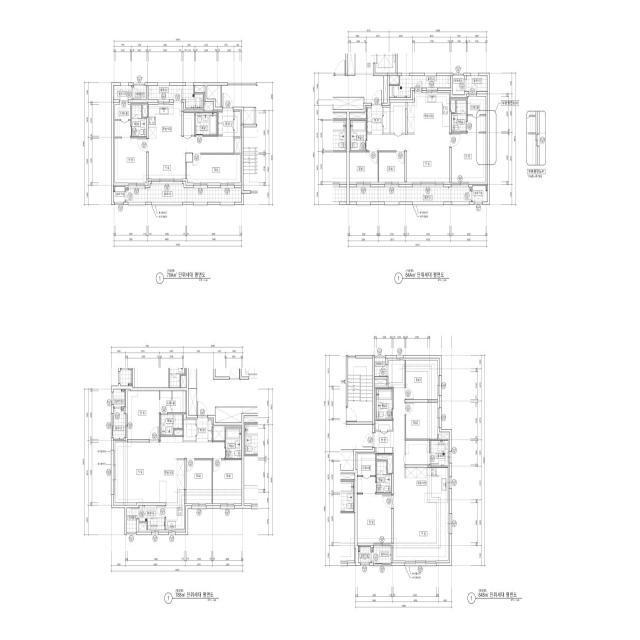space_balconi: (126, 184, 242, 202), (349, 187, 471, 202), (389, 76, 451, 97), (148, 86, 203, 108), (140, 506, 165, 530), (430, 441, 448, 466), (113, 408, 125, 439), (372, 546, 391, 563), (466, 76, 487, 91), (113, 86, 131, 100)
space_bedroom: (357, 494, 391, 543), (452, 133, 486, 182), (128, 391, 159, 439), (187, 155, 240, 183), (115, 138, 146, 183), (406, 360, 438, 400), (213, 460, 242, 503), (406, 403, 438, 439), (186, 460, 212, 503), (349, 152, 378, 182), (379, 152, 405, 182)
space_dressroom: (357, 454, 376, 493), (468, 96, 486, 132), (160, 391, 185, 413), (115, 102, 130, 137)
space_front: (218, 109, 240, 137), (367, 105, 383, 134), (374, 432, 393, 454), (197, 417, 212, 442)
space_kitchen: (407, 93, 450, 133), (405, 468, 448, 503), (166, 459, 184, 530), (148, 102, 182, 137)
space_living_room: (389, 360, 448, 561), (115, 437, 225, 503), (367, 134, 450, 182), (148, 137, 233, 179)
space_other: (406, 441, 429, 465), (391, 102, 405, 133), (207, 86, 220, 107), (377, 455, 392, 473), (127, 508, 138, 532), (184, 420, 196, 441), (184, 113, 194, 135), (375, 358, 387, 376), (453, 76, 464, 95), (189, 389, 197, 415), (133, 86, 146, 100), (243, 108, 254, 124), (213, 427, 225, 441), (376, 420, 392, 430), (384, 108, 390, 133), (349, 114, 366, 119), (384, 76, 387, 103), (389, 76, 399, 84), (235, 138, 240, 153), (204, 103, 213, 111), (375, 379, 387, 385), (195, 86, 205, 93), (139, 523, 146, 530), (451, 100, 455, 112), (143, 105, 147, 117), (174, 430, 183, 435), (439, 434, 448, 439)
space_outdoor_room: (472, 186, 487, 202), (113, 389, 125, 407), (358, 547, 371, 563), (113, 187, 125, 202)
space_staircase: (348, 358, 372, 422)
space_toilet: (350, 120, 366, 151), (195, 113, 217, 135), (160, 414, 183, 435), (376, 389, 392, 419), (226, 428, 241, 458), (452, 100, 466, 132), (377, 461, 391, 493), (132, 105, 146, 137)
